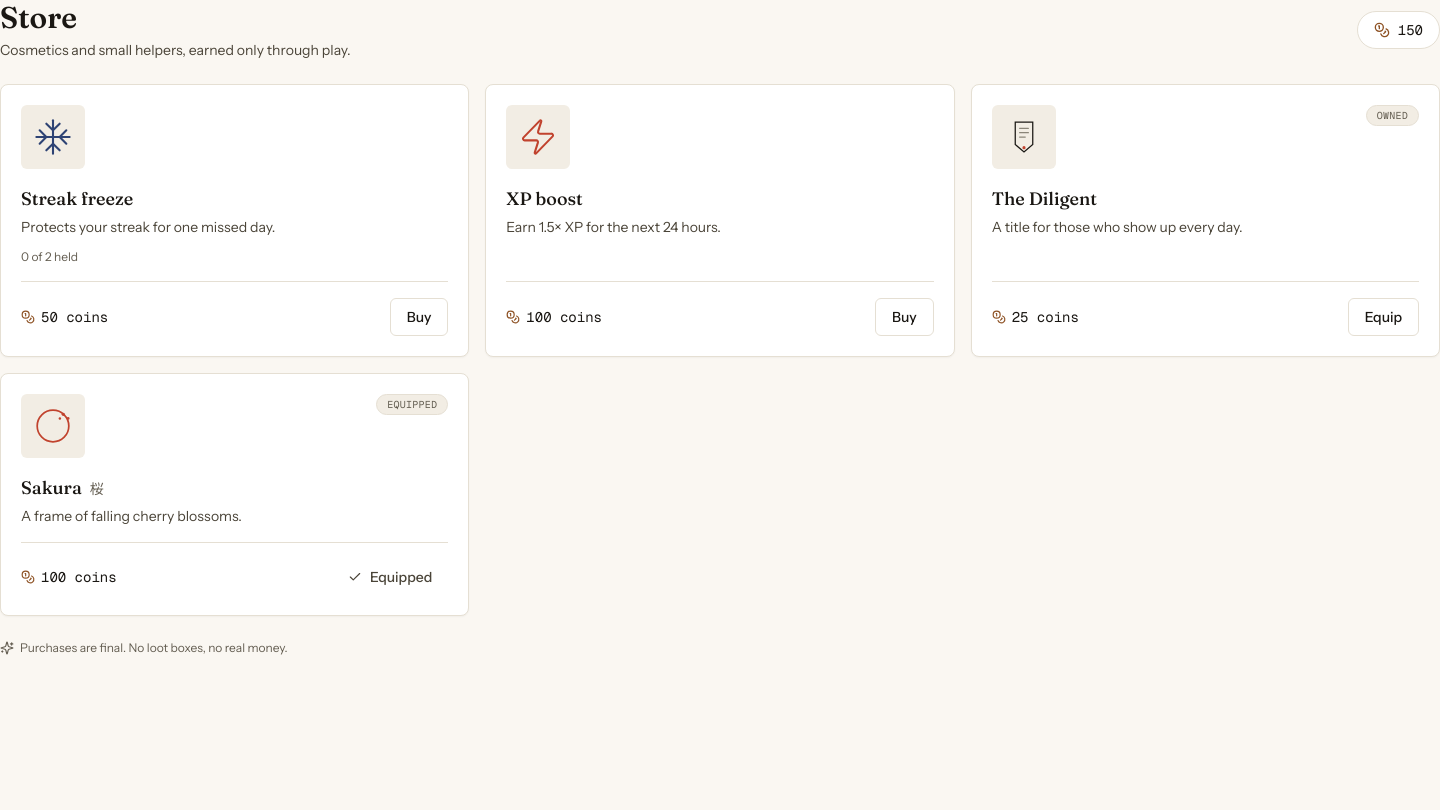
Test: Store (§7.10) › confirms a purchase, deducts coins, and toasts the result
Expected: the heading "Store" is shown, 0,0 -> 77,36
Click the button with aria-label "Buy Streak freeze for 50 coins" at (419, 317), box 390,298 -> 448,336
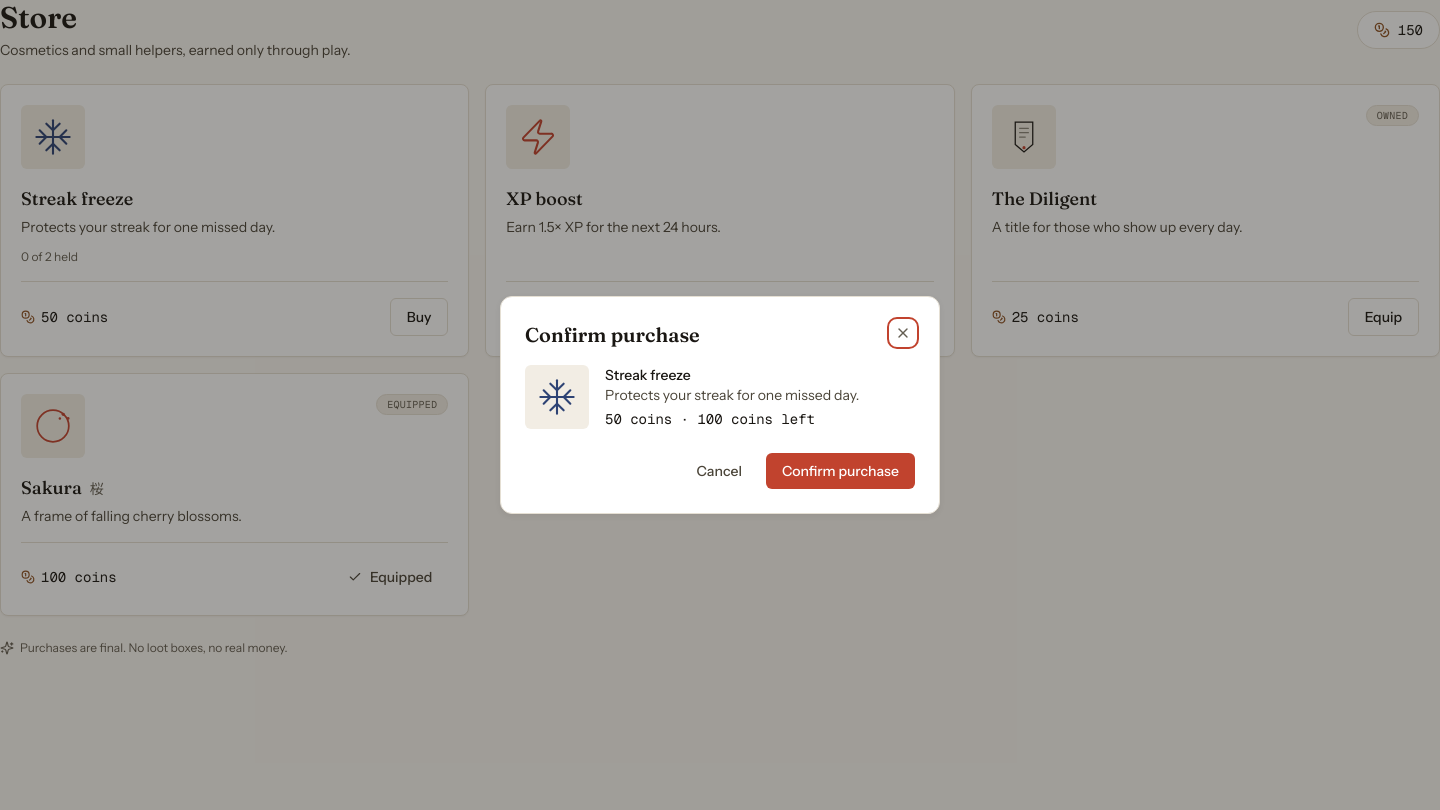
Expected: the heading "Confirm purchase" is shown, 525,321 -> 700,349
Expected: the text "50 coins · 100 coins left" is shown, 605,410 -> 815,428
Click the button "Confirm purchase" at (840, 471), box 766,453 -> 915,489
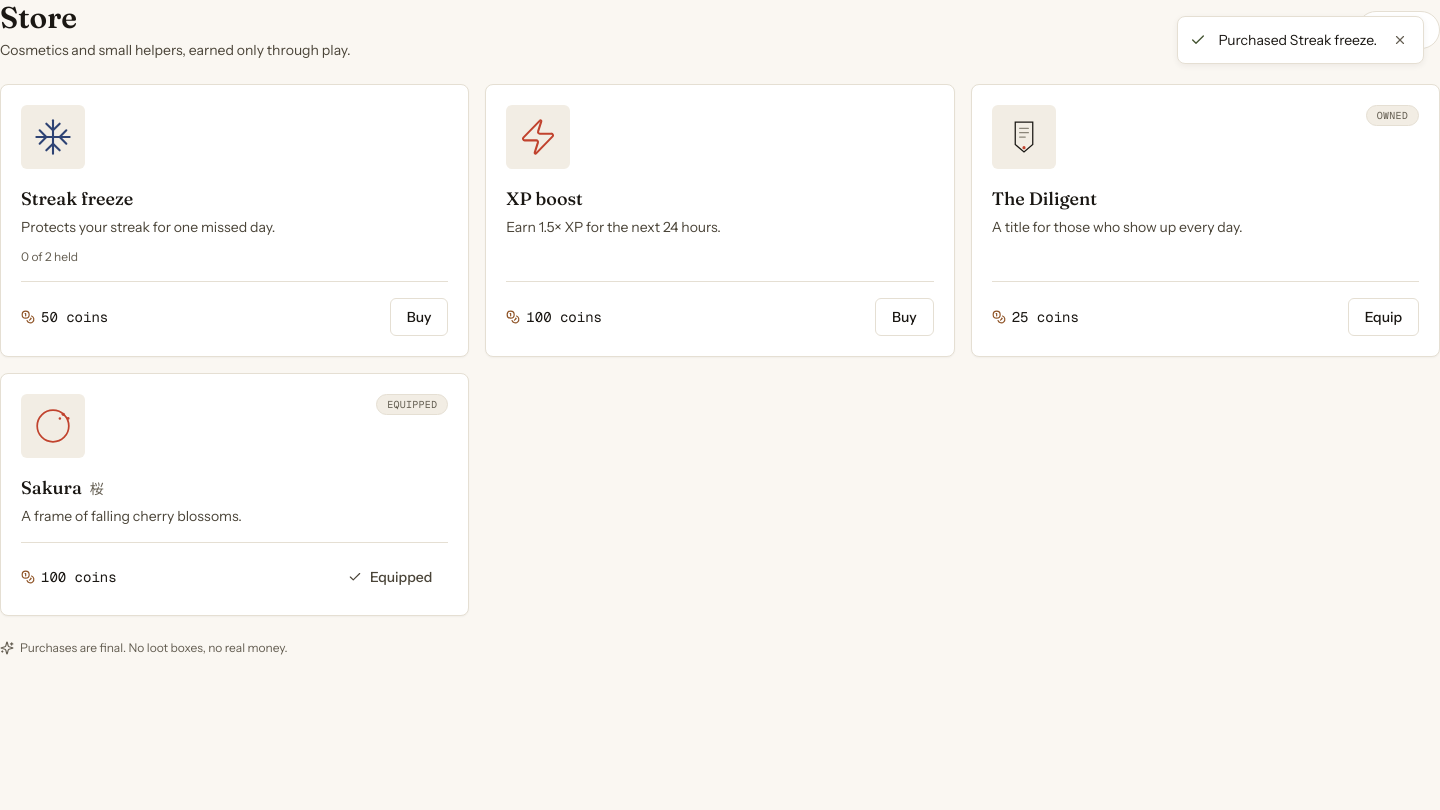
Expected: the text "Purchased Streak freeze." is shown, 1218,30 -> 1377,50
